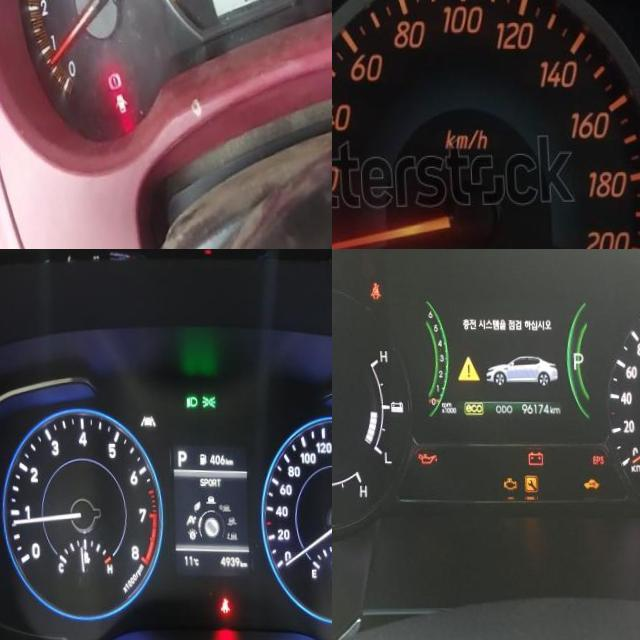Low beam: (182, 396, 195, 410)
SideLamp: (197, 395, 214, 410)
